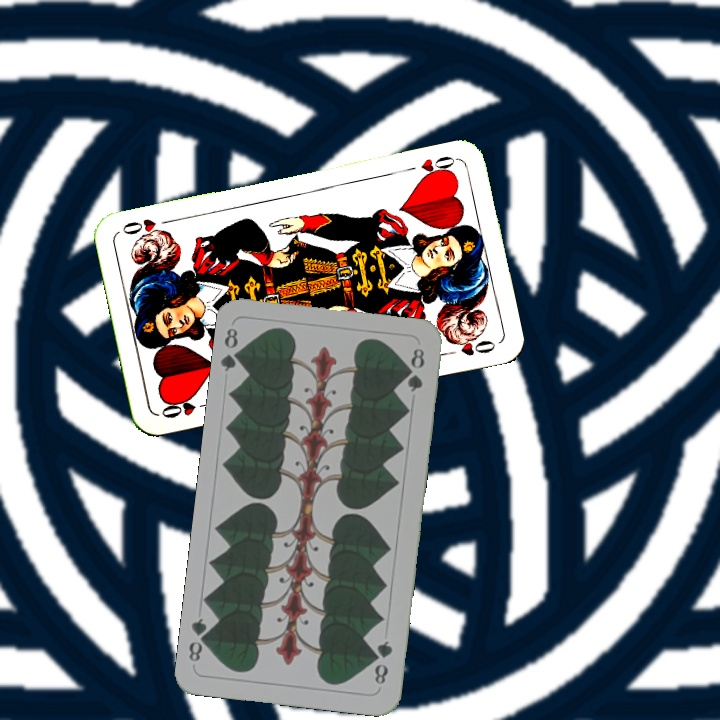G8: (217, 324, 247, 374), (370, 636, 395, 687)
HO: (157, 392, 215, 421), (416, 152, 460, 182)
